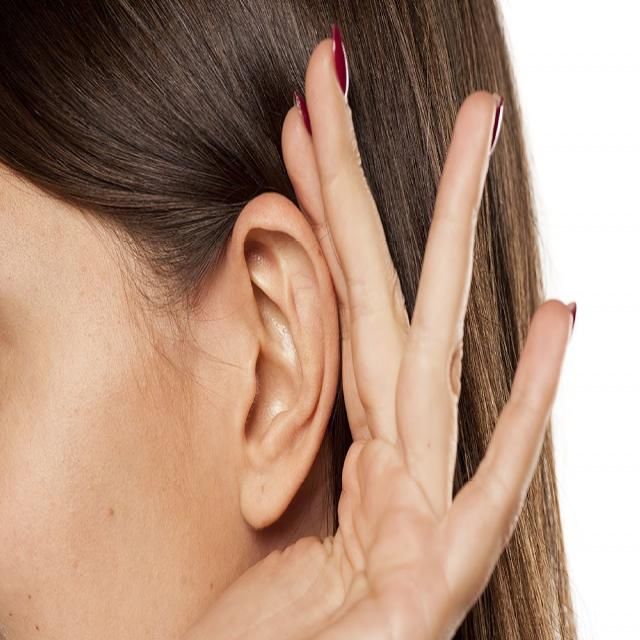earlobe: (230, 192, 341, 532)
